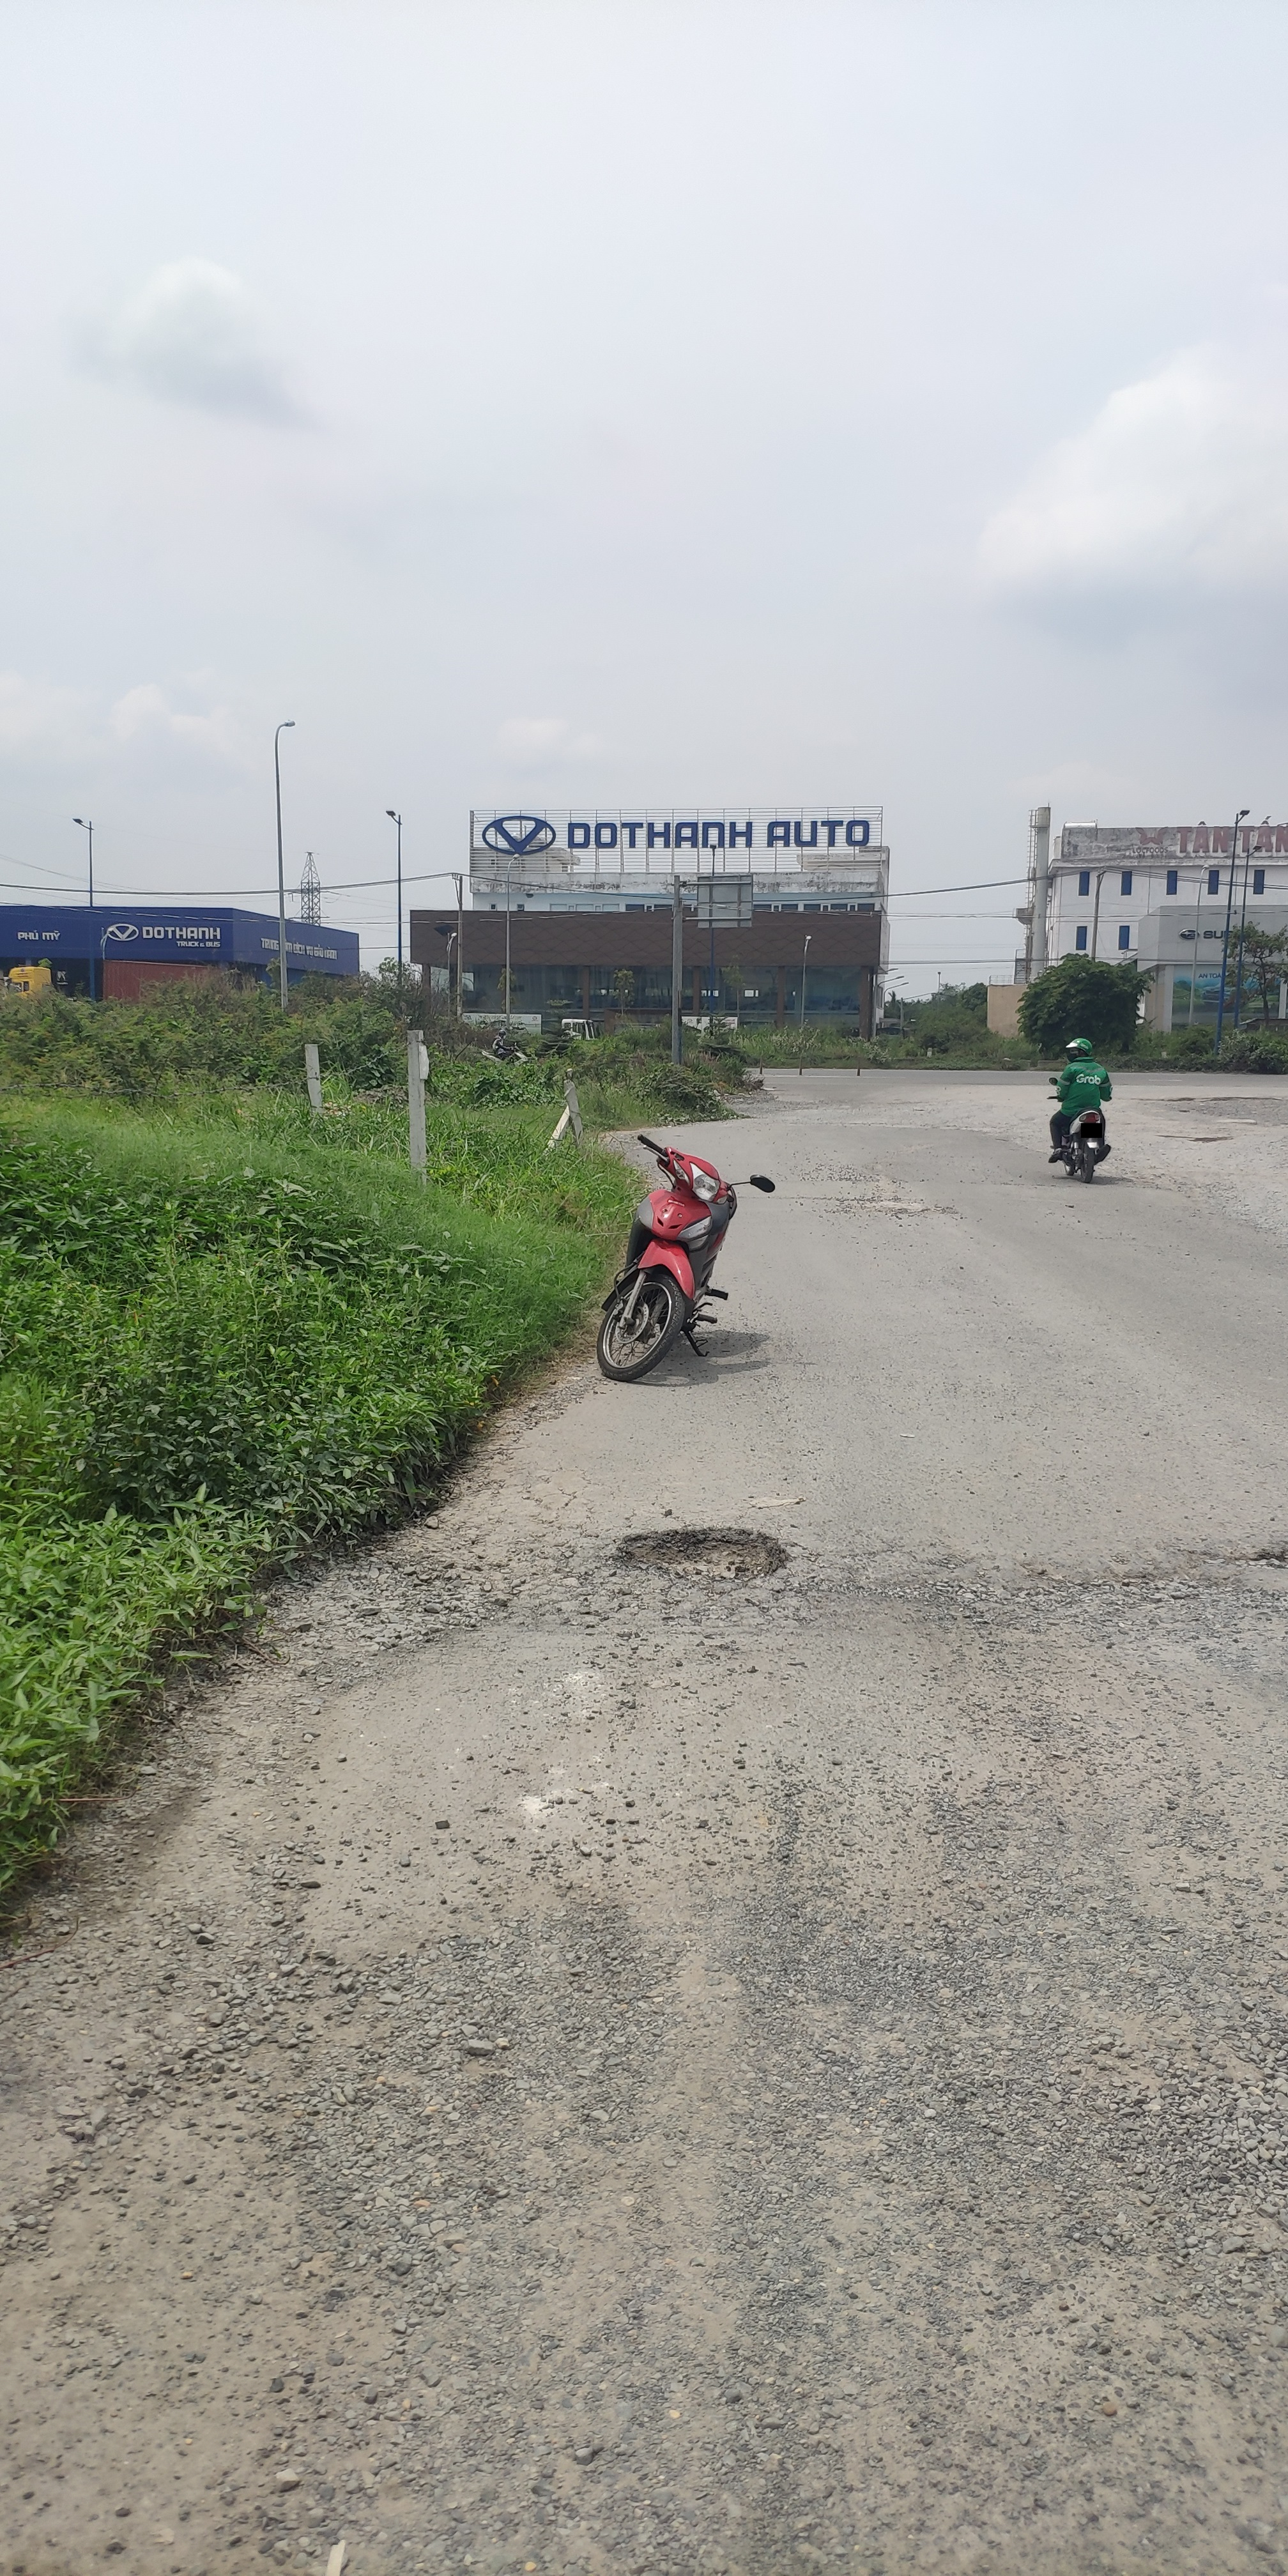hole: (591, 1511, 795, 1592), (859, 1194, 936, 1216)
